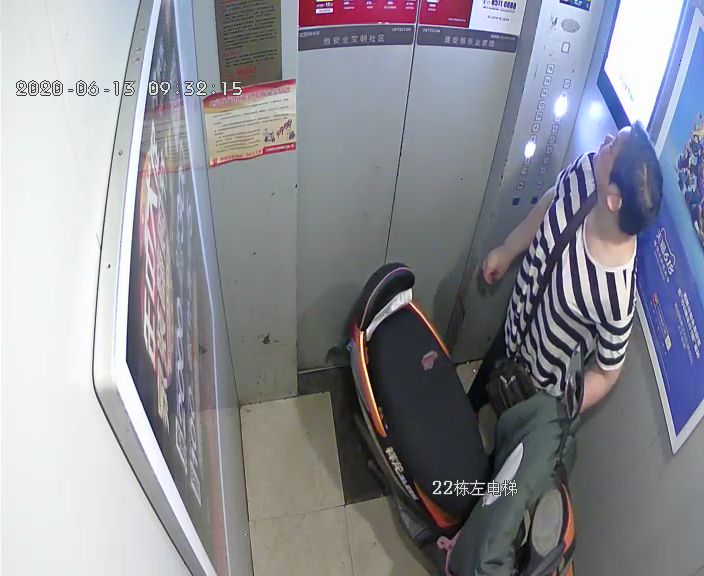Electric-bicycle: (342, 261, 586, 576)
